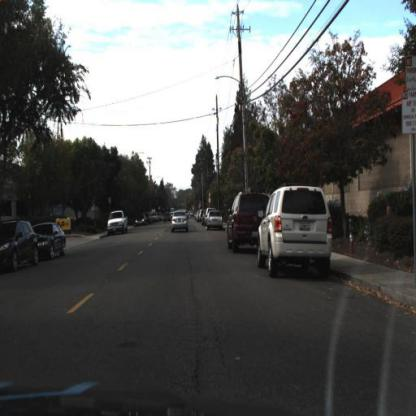car: (255, 185, 335, 279), (1, 219, 38, 275), (227, 190, 257, 254), (34, 218, 69, 263), (37, 221, 68, 261), (106, 210, 130, 237), (107, 209, 130, 237), (170, 206, 191, 236), (172, 210, 192, 235), (205, 209, 224, 234), (134, 210, 147, 230)
